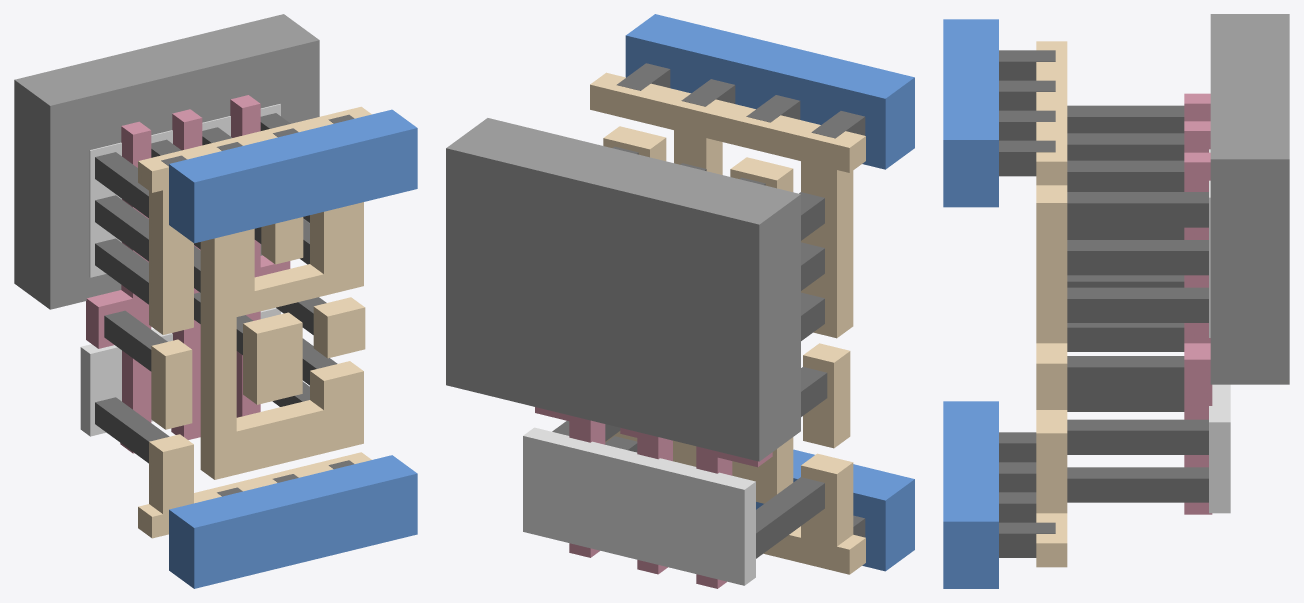
Rendered from sky130_fd_sc_hd__nand3_1.gds.gltf.
3 views of the same model, side by side, from view 1: azimuth 30°, elevation 25°; view 2: azimuth 150°, elevation 25°; view 3: azimuth 270°, elevation 25° (orthographic). The views are drawn at different scales.
Parts seen in each view (by area): view 1: sky130_fd_sc_hd__nand3_1_li1, sky130_fd_sc_hd__nand3_1_met1, sky130_fd_sc_hd__nand3_1_nwell, sky130_fd_sc_hd__nand3_1_licon, sky130_fd_sc_hd__nand3_1_poly, sky130_fd_sc_hd__nand3_1_diff, sky130_fd_sc_hd__nand3_1_mcon; view 2: sky130_fd_sc_hd__nand3_1_nwell, sky130_fd_sc_hd__nand3_1_li1, sky130_fd_sc_hd__nand3_1_diff, sky130_fd_sc_hd__nand3_1_met1, sky130_fd_sc_hd__nand3_1_licon, sky130_fd_sc_hd__nand3_1_mcon, sky130_fd_sc_hd__nand3_1_poly; view 3: sky130_fd_sc_hd__nand3_1_licon, sky130_fd_sc_hd__nand3_1_nwell, sky130_fd_sc_hd__nand3_1_met1, sky130_fd_sc_hd__nand3_1_li1, sky130_fd_sc_hd__nand3_1_mcon, sky130_fd_sc_hd__nand3_1_poly, sky130_fd_sc_hd__nand3_1_diff.
Part boxes in pixels (<box>): sky130_fd_sc_hd__nand3_1_li1: <box>138,106,371,538</box>; sky130_fd_sc_hd__nand3_1_met1: <box>169,109,417,588</box>; sky130_fd_sc_hd__nand3_1_nwell: <box>14,14,319,309</box>; sky130_fd_sc_hd__nand3_1_licon: <box>95,113,337,463</box>; sky130_fd_sc_hd__nand3_1_poly: <box>86,95,290,453</box>; sky130_fd_sc_hd__nand3_1_diff: <box>80,104,280,436</box>; sky130_fd_sc_hd__nand3_1_mcon: <box>161,114,354,496</box>; sky130_fd_sc_hd__nand3_1_nwell: <box>446,118,800,461</box>; sky130_fd_sc_hd__nand3_1_li1: <box>590,72,865,574</box>; sky130_fd_sc_hd__nand3_1_diff: <box>523,427,755,585</box>; sky130_fd_sc_hd__nand3_1_met1: <box>625,14,914,571</box>; sky130_fd_sc_hd__nand3_1_licon: <box>552,146,827,558</box>; sky130_fd_sc_hd__nand3_1_mcon: <box>617,63,865,537</box>; sky130_fd_sc_hd__nand3_1_poly: <box>535,407,772,588</box>; sky130_fd_sc_hd__nand3_1_licon: <box>1067,105,1208,502</box>; sky130_fd_sc_hd__nand3_1_nwell: <box>1210,14,1289,384</box>; sky130_fd_sc_hd__nand3_1_met1: <box>943,19,998,588</box>; sky130_fd_sc_hd__nand3_1_li1: <box>1036,41,1067,567</box>; sky130_fd_sc_hd__nand3_1_mcon: <box>999,50,1055,557</box>; sky130_fd_sc_hd__nand3_1_poly: <box>1184,93,1212,514</box>; sky130_fd_sc_hd__nand3_1_diff: <box>1209,149,1230,513</box>.
Bounding box in the file's own units: 2.22 × 3.2 × 2.24.
